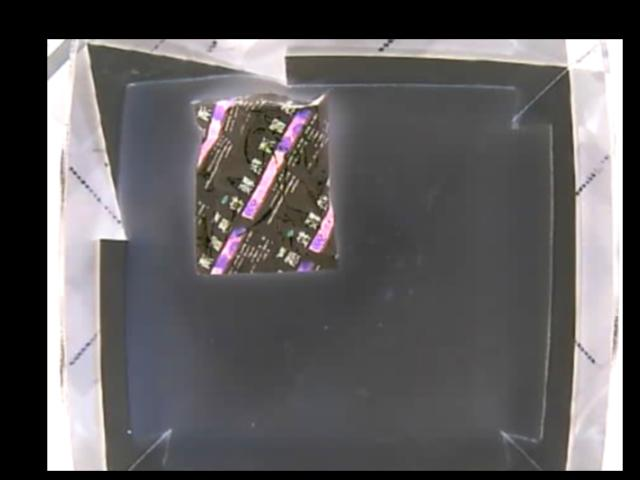Medicine: (191, 90, 335, 276)
